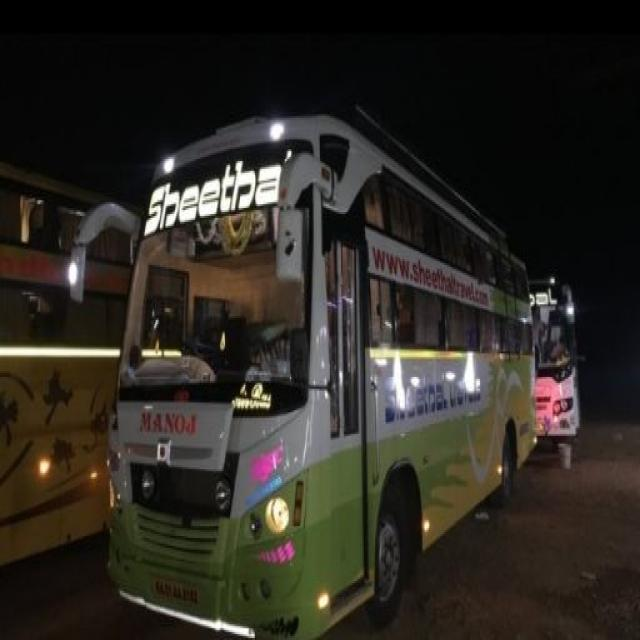bus: (71, 110, 535, 637)
